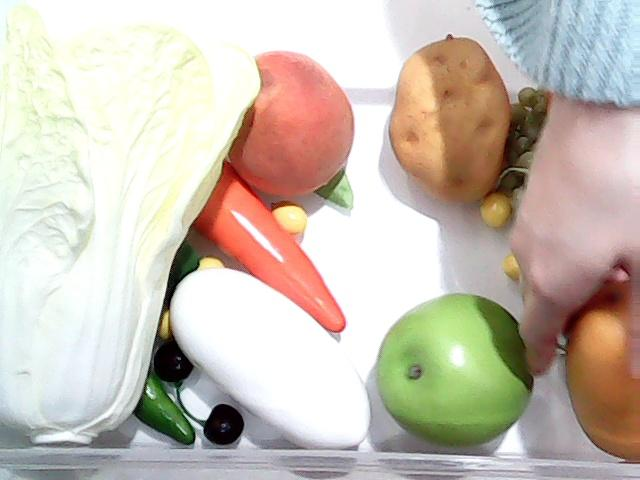apple: (370, 290, 536, 447)
carrot: (192, 155, 344, 332)
grape: (506, 84, 550, 220)
napa cabbage: (0, 0, 264, 444)
peach: (223, 46, 373, 214), (223, 47, 357, 201)
pepper: (100, 329, 200, 451)
potato: (388, 34, 512, 206)
radish: (148, 220, 374, 450)
